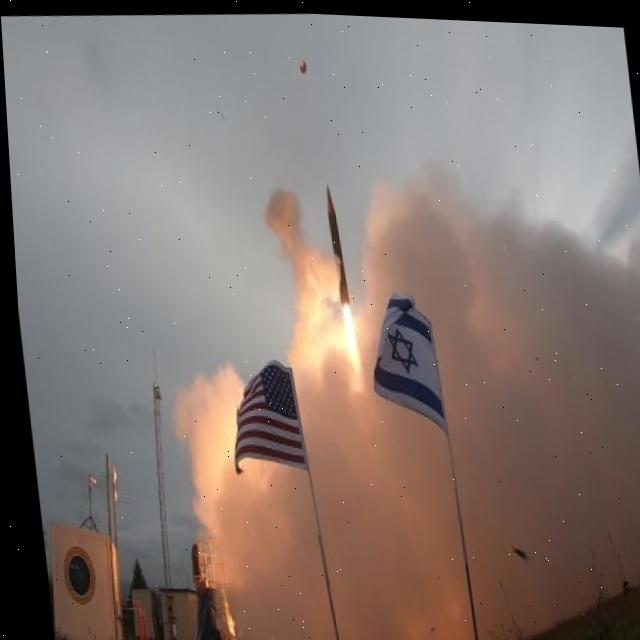missile: (303, 180, 357, 308)
